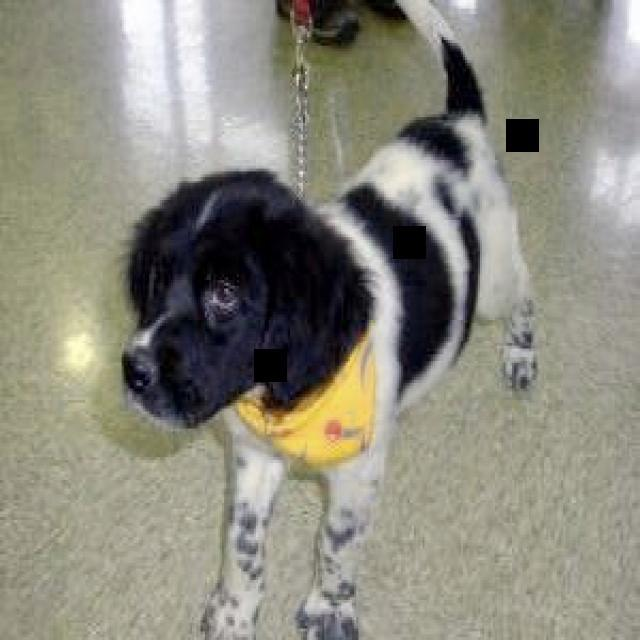adult_dog: (116, 33, 541, 640)
